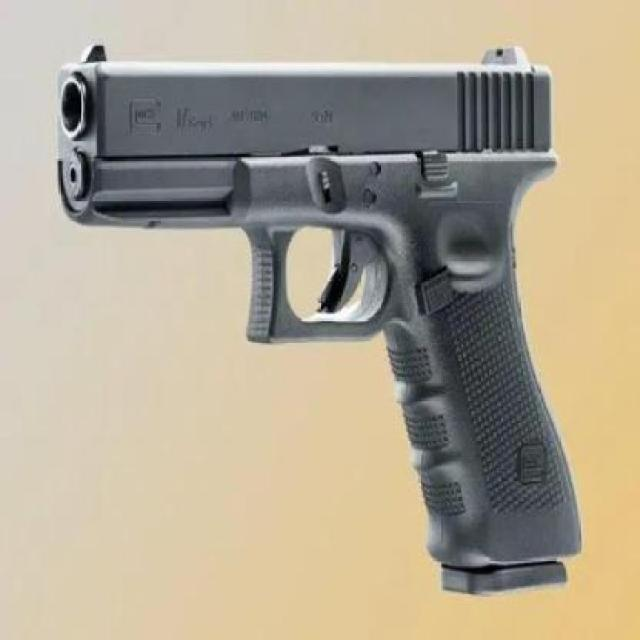gun: (44, 34, 601, 597)
